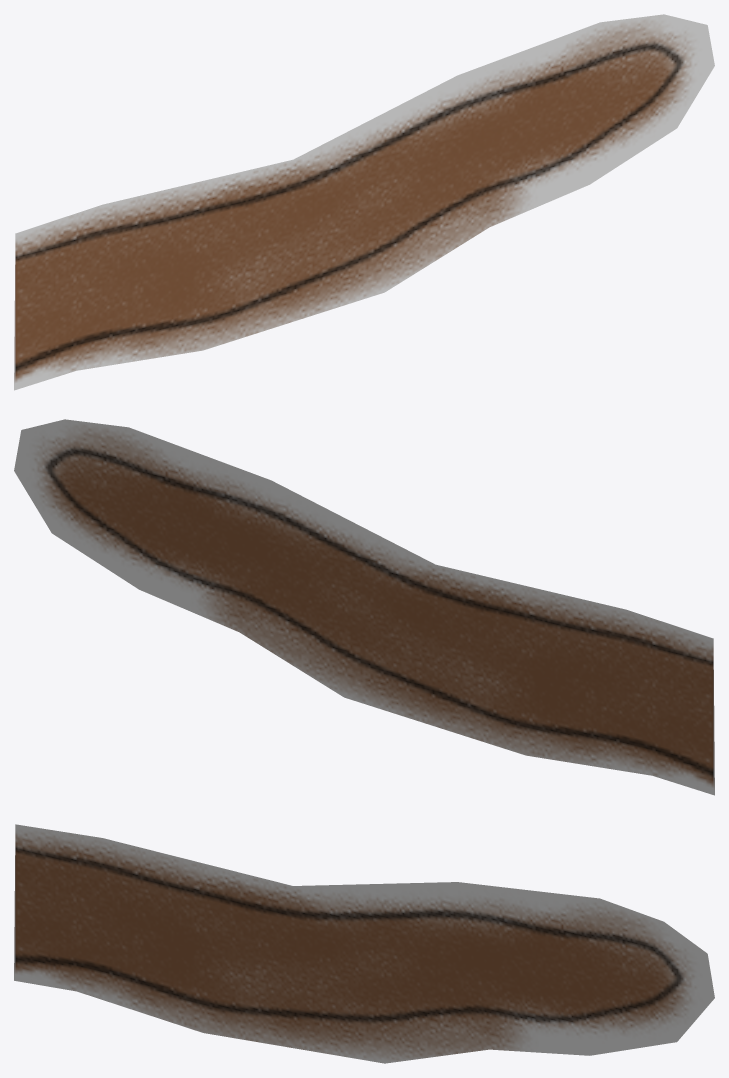
File: Gren2.fbx
3 renders of one model, top to bottom at view 1: azimuth 30°, elevation 25°; view 2: azimuth 150°, elevation 25°; view 3: azimuth 330°, elevation 25°, orthographic.
Parts seen in each view (by area): view 1: Gren2; view 2: Gren2; view 3: Gren2.
Part boxes in pixels (x1,y1,x2,y2): Gren2: [14, 14, 714, 390]; Gren2: [14, 419, 714, 795]; Gren2: [14, 824, 714, 1063].
Bounding box in the file's own units: 34.28 × 10.81 × 1.76e-06.
